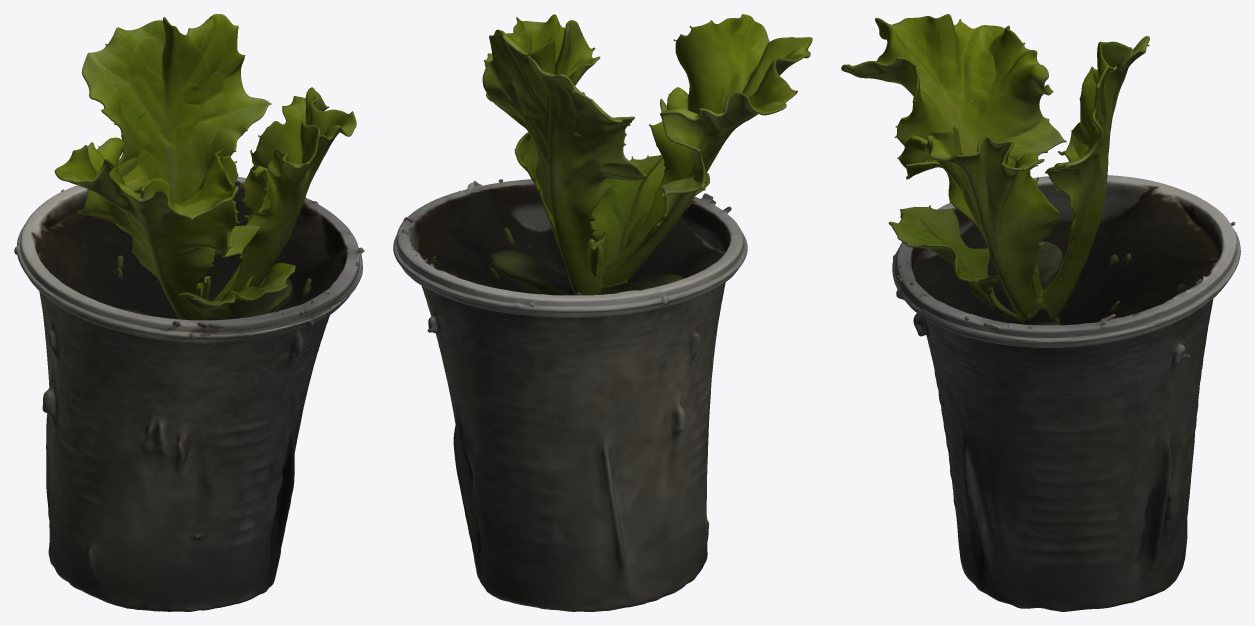
File: limambo_seedling.glb
3 views of the same model, side by side, from view 1: azimuth 30°, elevation 25°; view 2: azimuth 150°, elevation 25°; view 3: azimuth 270°, elevation 25° (orthographic).
Parts seen in each view (by area): view 1: tripo_node_0cc27797-fa4d-4639-9451-0b9bd149ff27; view 2: tripo_node_0cc27797-fa4d-4639-9451-0b9bd149ff27; view 3: tripo_node_0cc27797-fa4d-4639-9451-0b9bd149ff27.
Part boxes in pixels (x1,y1,x2,y2): tripo_node_0cc27797-fa4d-4639-9451-0b9bd149ff27: (14, 14, 364, 611); tripo_node_0cc27797-fa4d-4639-9451-0b9bd149ff27: (393, 14, 812, 611); tripo_node_0cc27797-fa4d-4639-9451-0b9bd149ff27: (841, 14, 1240, 611).
Bounding box in the file's own units: 0.6313 × 1 × 0.674.
1 material, 1 textured.
